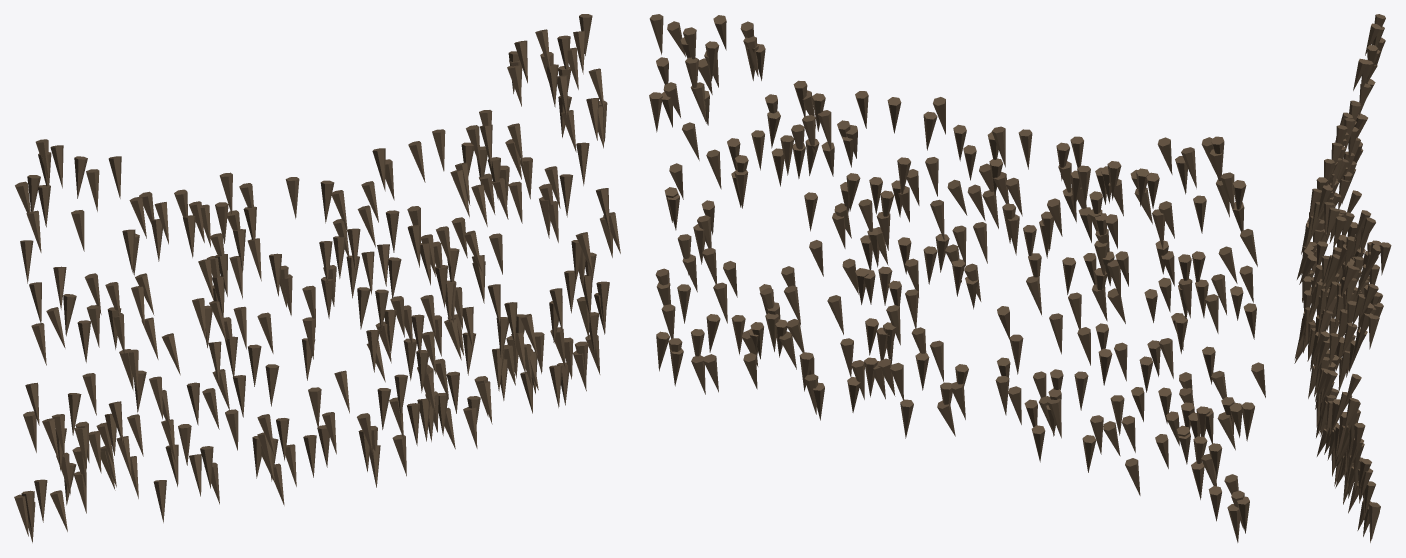
The model's file is trimmed_beard.glb.
3 views of the same model, side by side, from view 1: azimuth 30°, elevation 25°; view 2: azimuth 150°, elevation 25°; view 3: azimuth 270°, elevation 25° (orthographic). The views are drawn at different scales.
Parts seen in each view (by area): view 1: no part large enough to name; view 2: no part large enough to name; view 3: p128, p192, p131, p179, p214, p235, p241, p278, p56, p195, p232, p245 (+61 smaller).
Boxes of the visible parts, x1,y1,x2,y2 form: p128: (1368, 315, 1379, 349); p192: (1370, 504, 1380, 538); p131: (1329, 333, 1338, 367); p179: (1344, 398, 1359, 431); p214: (1342, 322, 1357, 355); p235: (1358, 217, 1375, 249); p241: (1326, 207, 1339, 241); p278: (1333, 216, 1346, 249); p56: (1361, 284, 1378, 316); p195: (1341, 265, 1357, 297); p232: (1380, 242, 1391, 275); p245: (1317, 309, 1333, 342).
Size of the model in its own units: 0.1576 by 0.1014 by 0.0272.
